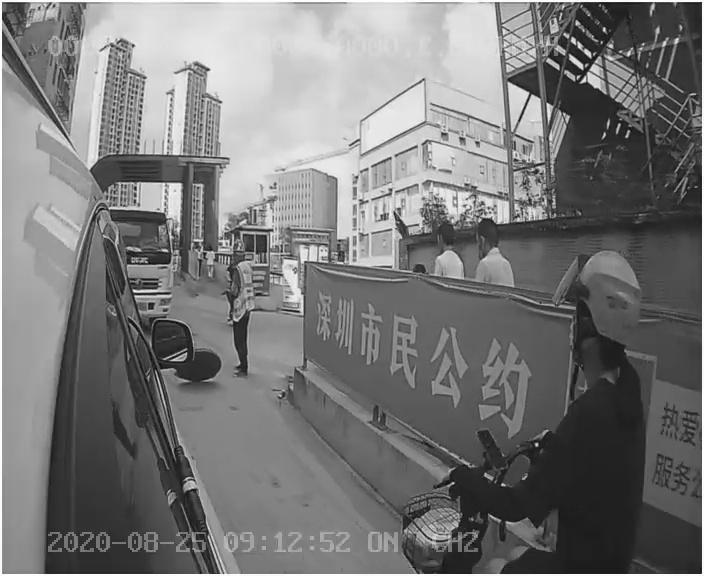person: (217, 240, 258, 380)
